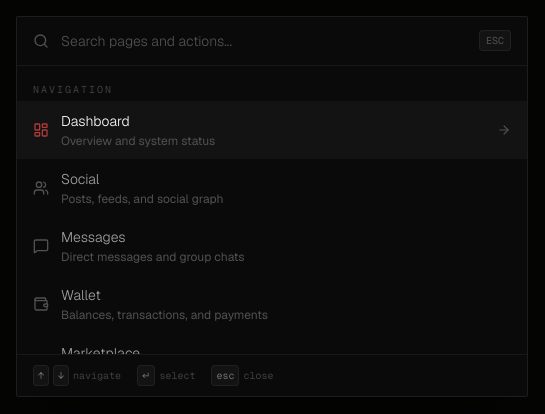
Test case: CommandPalette › filters results based on search query
Type "wallet" into the field with placeholder "Search pages and actions..." at point(264, 41), box top-left (61, 17), bottom-right (467, 65)
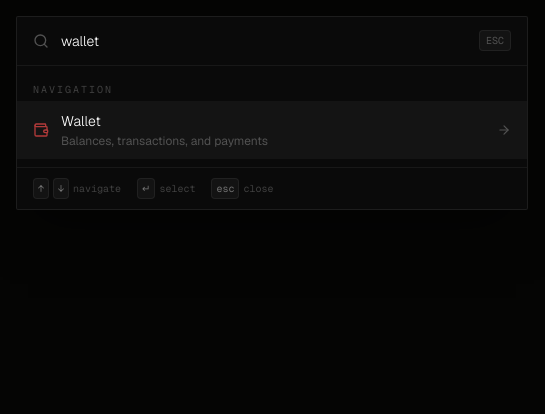
expect the text "Wallet" is shown: met, box top-left (61, 112), bottom-right (101, 130)
expect the button "Dashboard" is gone: met
